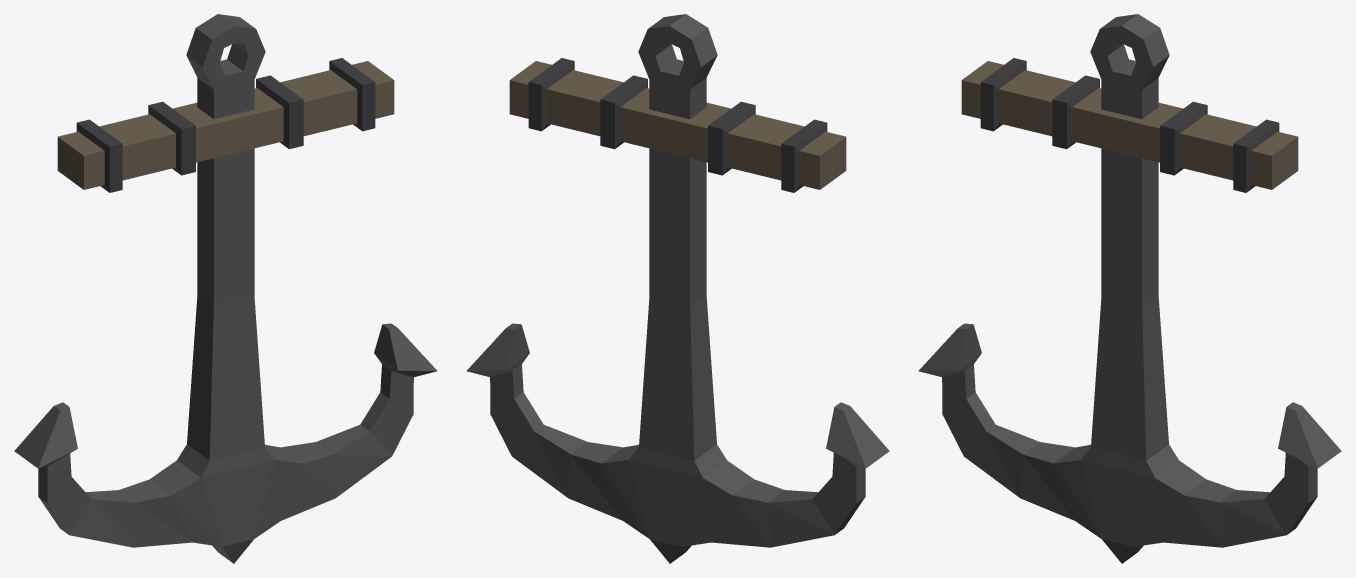
Rendered from SM_Prop_Anchor_01.glb.
3 renders of one model, left to right at view 1: azimuth 30°, elevation 25°; view 2: azimuth 150°, elevation 25°; view 3: azimuth 330°, elevation 25°, orthographic.
Visible parts, largest first — view 1: SM_Prop_Anchor_01_part00; view 2: SM_Prop_Anchor_01_part00; view 3: SM_Prop_Anchor_01_part00.
Part boxes in pixels (x1,y1,x2,y2): SM_Prop_Anchor_01_part00: [14, 14, 437, 563]; SM_Prop_Anchor_01_part00: [466, 14, 889, 563]; SM_Prop_Anchor_01_part00: [918, 14, 1341, 563].
Bounding box in the file's own units: 1.14 × 1.47 × 0.1639.
Materials: 1 (1 with a texture image).
